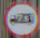Heavy Vehicles: (5, 3, 39, 34)
